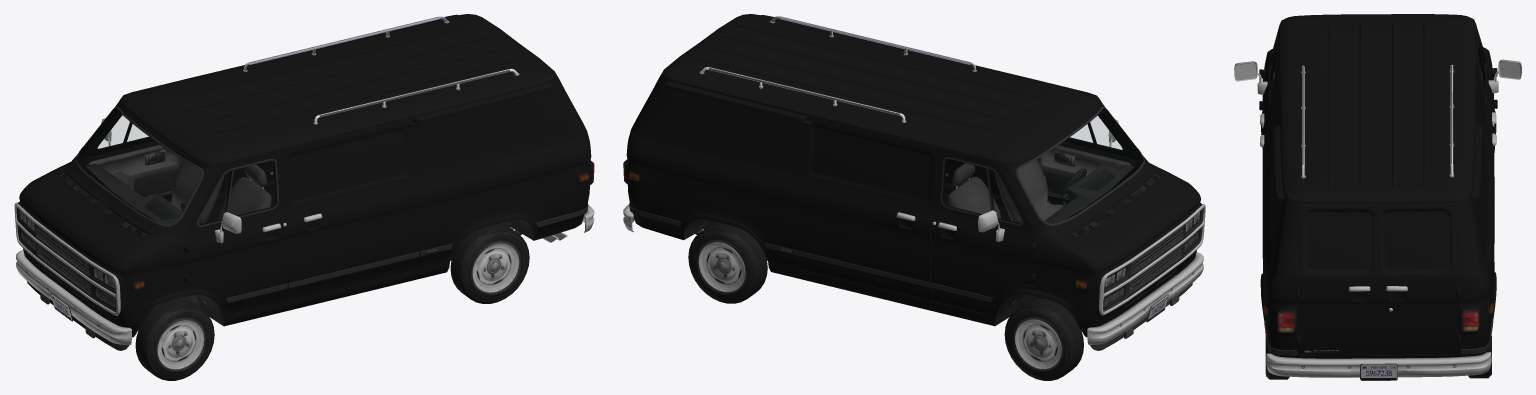
The model's file is american_panel_van.glb.
3 views of the same model, side by side, from view 1: azimuth 30°, elevation 25°; view 2: azimuth 150°, elevation 25°; view 3: azimuth 270°, elevation 25° (orthographic). The views are drawn at different scales.
Parts seen in each view (by area): view 1: Body_Body_0, Door_RL_Body_0, Door_FL_Body_0, Hood_Body_0, Wheel_FL_RIMSTOCK_01_0, Wheel_RL_RIMSTOCK_01_0, Doorcard_FR_Material #31_0, Grill_UCB_BOTTOM_0, Seats_Material #31_0, Bumper_front_UCB_BOTTOM_0, Bottom_UCB_BOTTOM_0, Dashboard_Material #31_0 (+7 smaller); view 2: Body_Body_0, Door_RR_Body_0, Door_FR_Body_0, Hood_Body_0, Wheel_FR_RIMSTOCK_01_0, Wheel_RR_RIMSTOCK_01_0, Grill_UCB_BOTTOM_0, Doorcard_FL_Material #31_0, Seats_Material #31_0, Bumper_front_UCB_BOTTOM_0, Dashboard_Material #31_0, Bottom_UCB_BOTTOM_0 (+7 smaller); view 3: Body_Body_0, Trunkdoor_Left_Body_0, Trunkdoor_Right_Body_0, Bumper_rear_UCB_BOTTOM_0, Detaling_Body_0, Door_RR_Body_0, Door_RL_Body_0, Roof_rails_UCB_BOTTOM_0, Numberplate_rear_Numberplates_0, Sidemirror_Left_UCB_BOTTOM_0, Sidemirror_Right_UCB_BOTTOM_0, Door_FR_Body_0 (+8 smaller).
Boxes of the visible parts, x1,y1,x2,y2 form: Body_Body_0: [18, 14, 592, 337]; Door_RL_Body_0: [281, 117, 422, 301]; Door_FL_Body_0: [184, 150, 288, 314]; Hood_Body_0: [20, 174, 144, 271]; Wheel_FL_RIMSTOCK_01_0: [135, 299, 214, 380]; Wheel_RL_RIMSTOCK_01_0: [450, 223, 529, 303]; Doorcard_FR_Material #31_0: [82, 111, 181, 201]; Grill_UCB_BOTTOM_0: [14, 202, 120, 315]; Seats_Material #31_0: [169, 160, 271, 224]; Bumper_front_UCB_BOTTOM_0: [16, 250, 131, 344]; Bottom_UCB_BOTTOM_0: [42, 172, 588, 325]; Dashboard_Material #31_0: [85, 164, 182, 224]; Body_Body_0: [624, 14, 1202, 337]; Door_RR_Body_0: [796, 116, 938, 301]; Door_FR_Body_0: [930, 148, 1035, 314]; Hood_Body_0: [1075, 175, 1199, 271]; Wheel_FR_RIMSTOCK_01_0: [1004, 298, 1083, 380]; Wheel_RR_RIMSTOCK_01_0: [688, 222, 767, 303]; Grill_UCB_BOTTOM_0: [1099, 204, 1205, 315]; Doorcard_FL_Material #31_0: [1037, 112, 1137, 204]; Seats_Material #31_0: [947, 159, 1063, 222]; Bumper_front_UCB_BOTTOM_0: [1087, 252, 1203, 344]; Dashboard_Material #31_0: [1045, 163, 1134, 223]; Bottom_UCB_BOTTOM_0: [629, 148, 1177, 325]; Body_Body_0: [1260, 14, 1496, 358]; Trunkdoor_Left_Body_0: [1298, 208, 1378, 355]; Trunkdoor_Right_Body_0: [1377, 207, 1458, 354]; Bumper_rear_UCB_BOTTOM_0: [1266, 352, 1491, 380]; Detaling_Body_0: [1259, 68, 1497, 347]; Door_RR_Body_0: [1475, 55, 1494, 243]; Door_RL_Body_0: [1262, 57, 1280, 203]; Roof_rails_UCB_BOTTOM_0: [1301, 64, 1454, 178]; Numberplate_rear_Numberplates_0: [1360, 364, 1397, 380]; Sidemirror_Left_UCB_BOTTOM_0: [1234, 61, 1267, 94]; Sidemirror_Right_UCB_BOTTOM_0: [1488, 59, 1521, 93]; Door_FR_Body_0: [1476, 26, 1494, 150].
Size of the model in its own units: 4.9 by 2.06 by 2.35.
8 materials, 7 textured.
